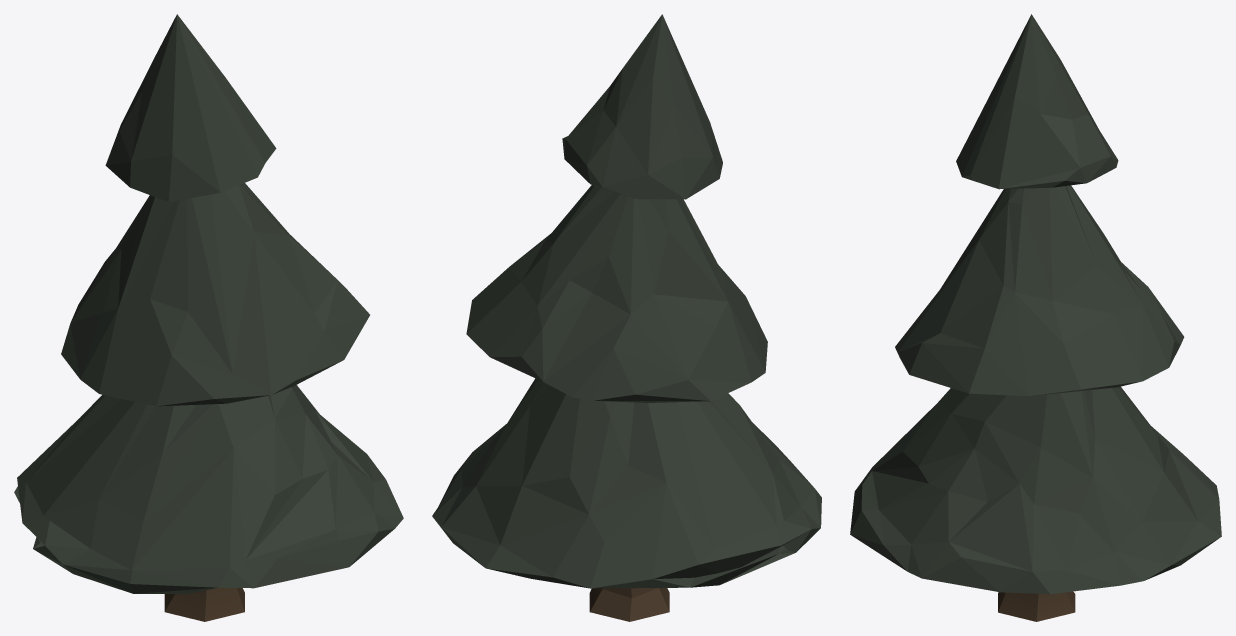
The model's file is Low poly pine tree 4.fbx.
3 renders of one model, left to right at view 1: azimuth 30°, elevation 25°; view 2: azimuth 150°, elevation 25°; view 3: azimuth 270°, elevation 25°, orthographic. The views are drawn at different scales.
Visible parts, largest first — view 1: polySurface4506; view 2: polySurface4506; view 3: polySurface4506.
Part boxes in pixels (x1,y1,x2,y2): polySurface4506: (14,14,403,621); polySurface4506: (432,14,821,621); polySurface4506: (850,14,1221,621).
Bounding box in the file's own units: 12.36 × 20.7 × 12.13.
